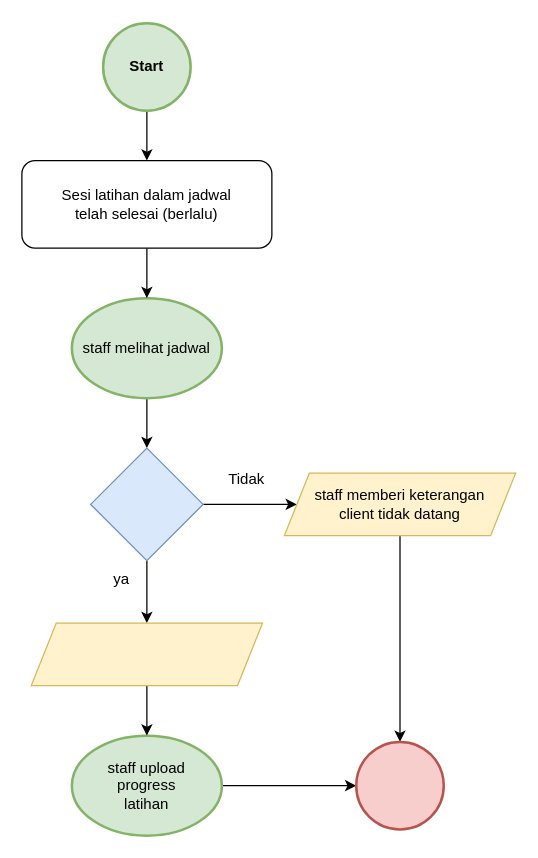
Some shapes in this 538 by 858 pixel diagram are drawn without their labels. Here are the shapes that lost their labels. From the top down, the box of each, then its label:
(89, 447, 203, 561): client datang?
(30, 622, 262, 686): staff memberi keterangan client datang
(354, 740, 444, 830): End
